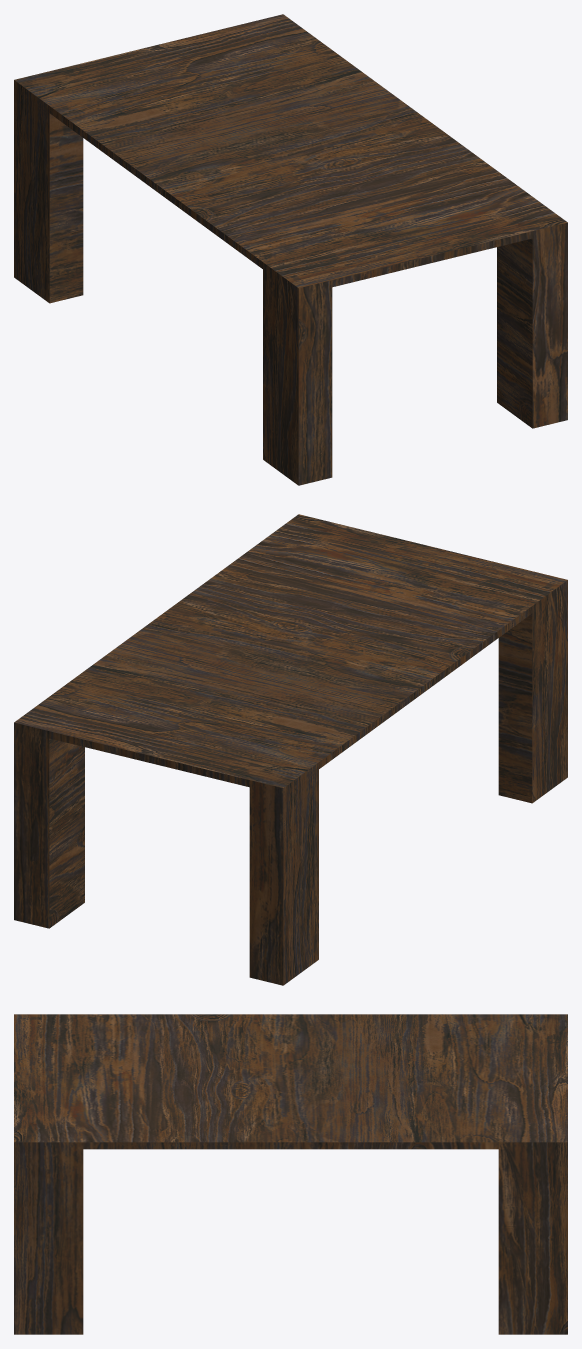
Rendered from Table.glb.
3 views of the same model, one above another, from view 1: azimuth 30°, elevation 25°; view 2: azimuth 150°, elevation 25°; view 3: azimuth 270°, elevation 25° (orthographic). The views are drawn at different scales.
Parts seen in each view (by area): view 1: Cube; view 2: Cube; view 3: Cube.
Part boxes in pixels (x1,y1,x2,y2): Cube: (14, 14, 567, 485); Cube: (14, 514, 567, 985); Cube: (14, 1014, 567, 1334).
Size of what is drawn, in the model's own units: 6.25 by 4.38 by 11.43.
Materials: 1 (1 with a texture image).
